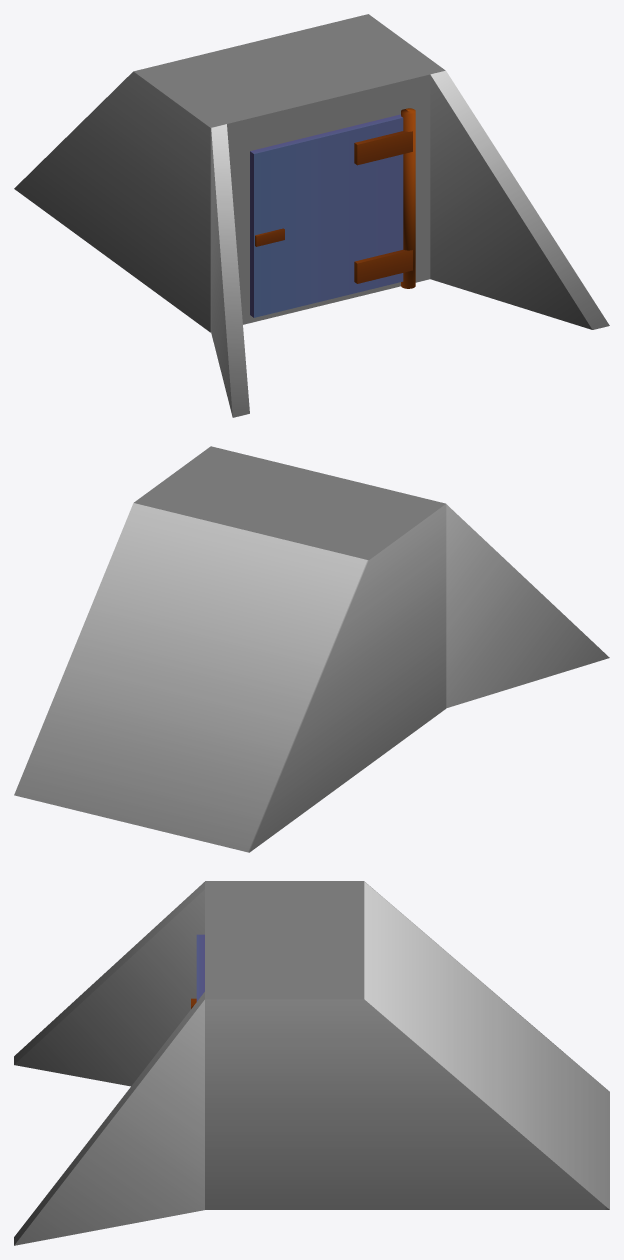
The model's file is TA-sm-bunker.fbx.
3 renders of one model, top to bottom at view 1: azimuth 30°, elevation 25°; view 2: azimuth 150°, elevation 25°; view 3: azimuth 270°, elevation 25°, orthographic. The views are drawn at different scales.
Parts seen in each view (by area): view 1: bunker; view 2: bunker; view 3: bunker.
Boxes of the visible parts, bbox=[...] form: bunker: bbox=[14, 14, 609, 417]; bunker: bbox=[14, 446, 609, 852]; bunker: bbox=[14, 881, 609, 1245].
Bounding box in the file's own units: 4.82 × 2.5 × 6.41.
1 material, 1 textured.
